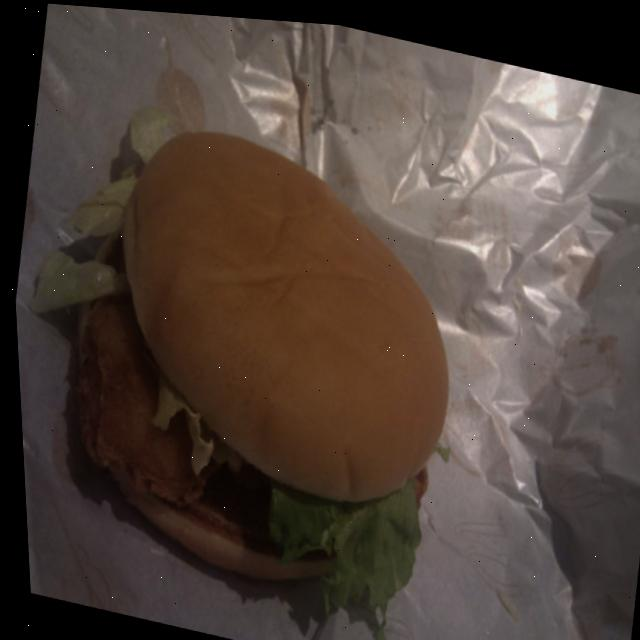汉堡快餐: (24, 75, 499, 624)
